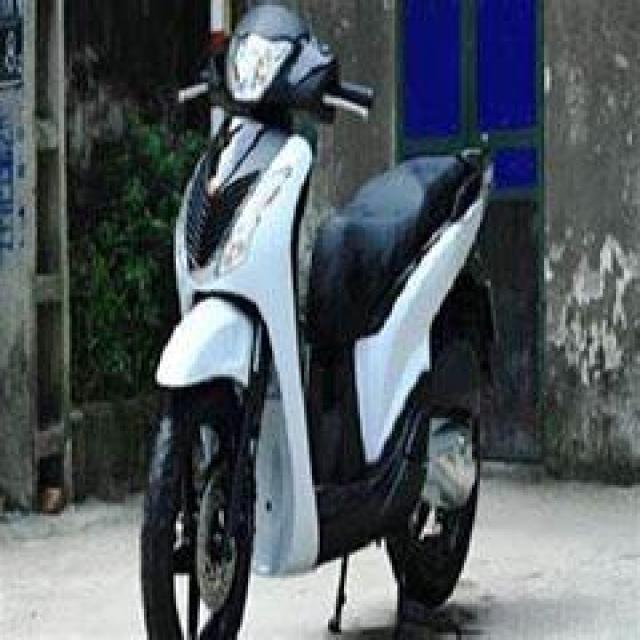motorcycle: (114, 0, 546, 635)
